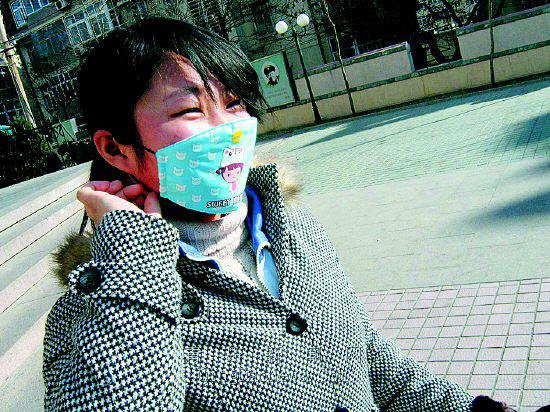OK: (131, 77, 264, 210)
